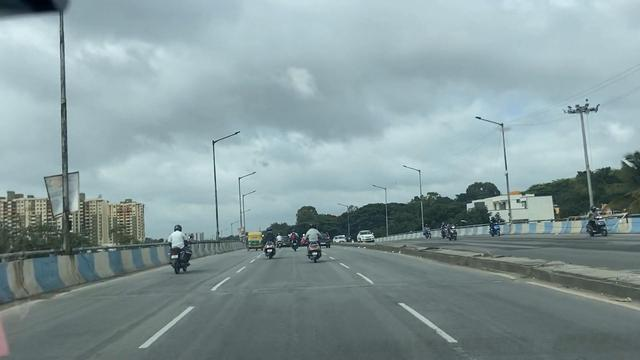LMV: (166, 223, 194, 277), (304, 225, 324, 260), (264, 229, 277, 260), (247, 232, 260, 249), (290, 228, 299, 250), (276, 232, 285, 246)
